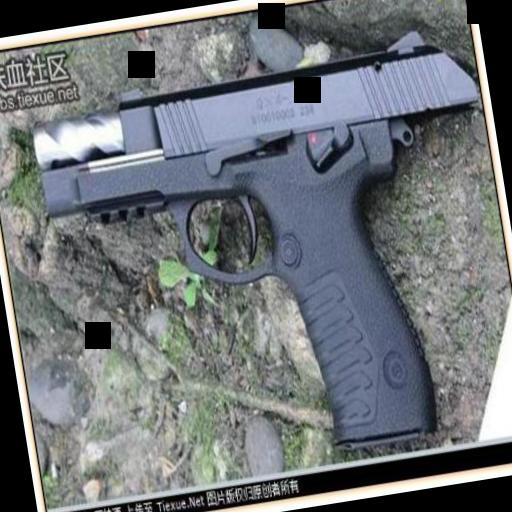Handgun: (10, 33, 512, 509)
